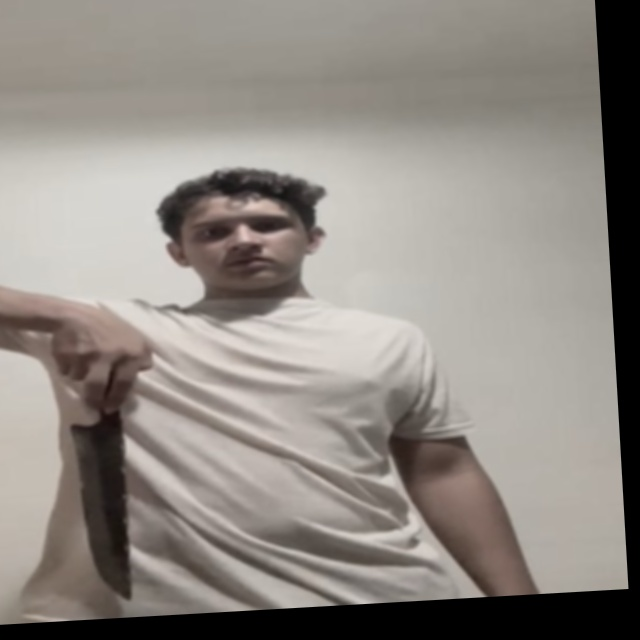Sharp-Object: (67, 415, 139, 605)
